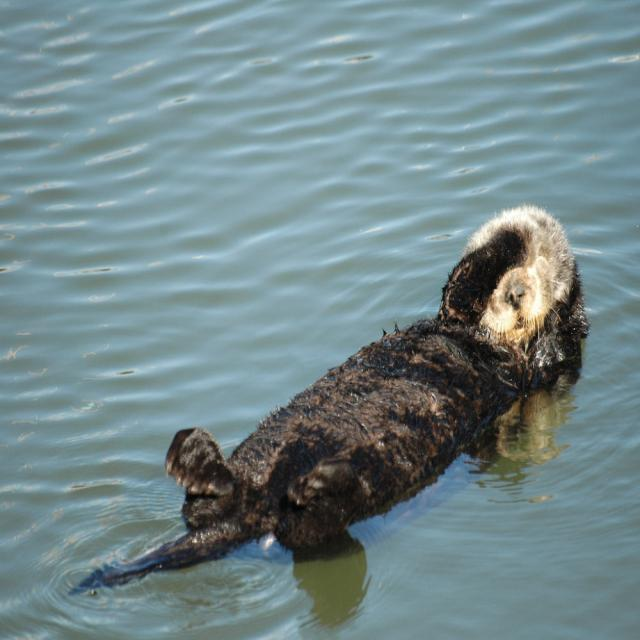otter: (167, 204, 589, 560)
